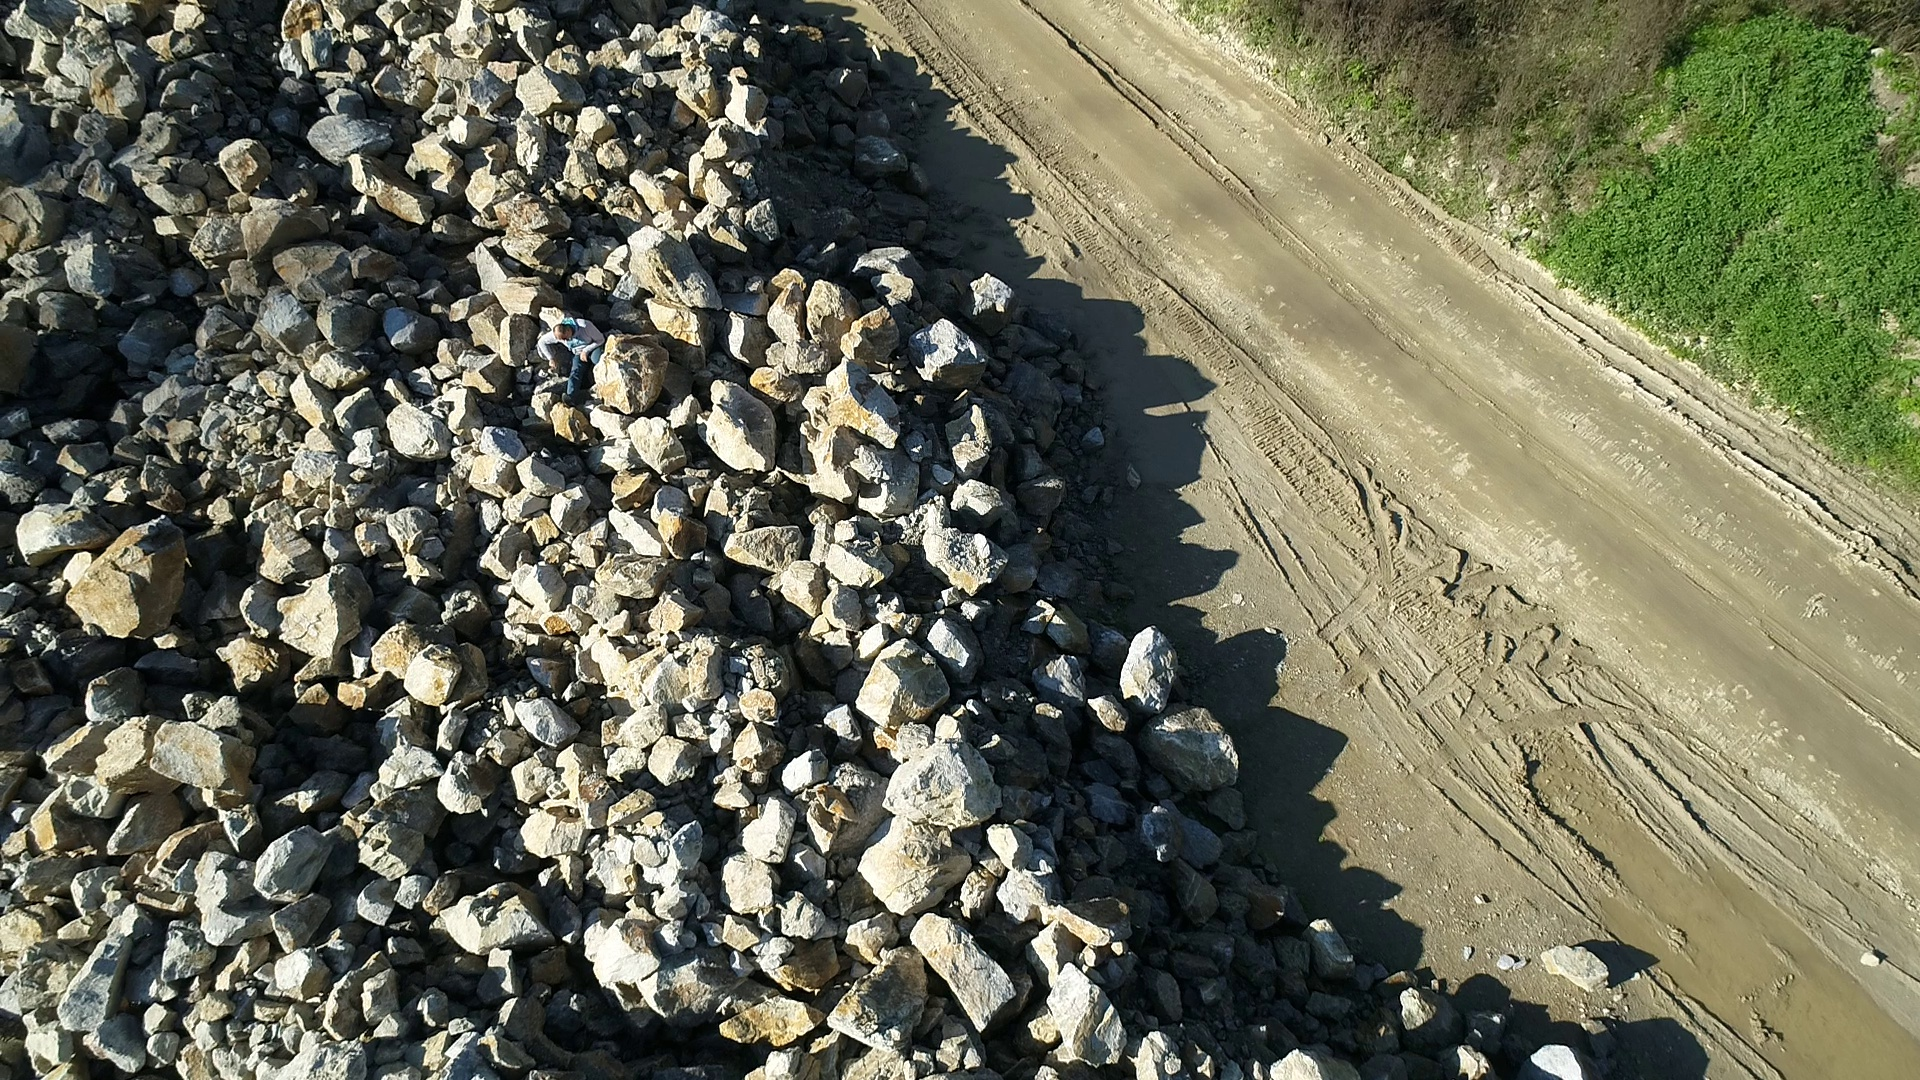person: (536, 317, 604, 407)
